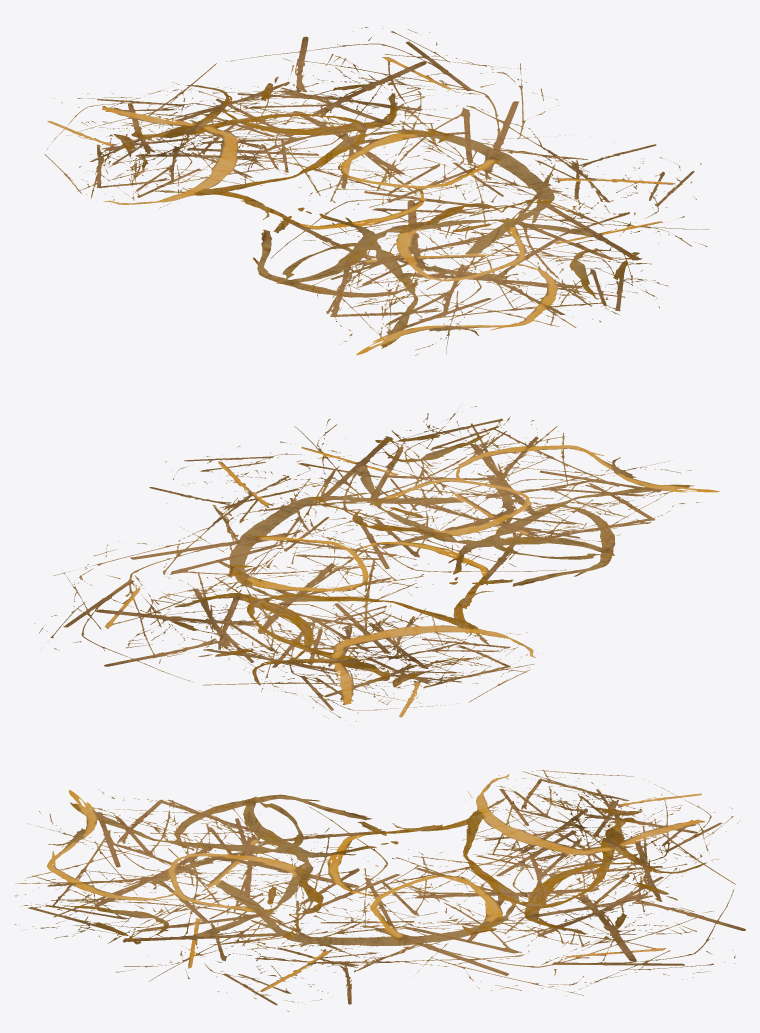
Rendered from DryGrass1.fbx.
3 views of the same model, one above another, from view 1: azimuth 30°, elevation 25°; view 2: azimuth 150°, elevation 25°; view 3: azimuth 270°, elevation 25° (orthographic).
Visible parts, largest first — view 1: 001_Ba_SM.mo; view 2: 001_Ba_SM.mo; view 3: 001_Ba_SM.mo.
Part boxes in pixels (left/top/right/bottom): 001_Ba_SM.mo: left=44, top=27, right=709, bottom=355; 001_Ba_SM.mo: left=34, top=406, right=719, bottom=721; 001_Ba_SM.mo: left=14, top=769, right=745, bottom=1011.
Size of the model in its own units: 83.91 by 1.63e-05 by 100.
